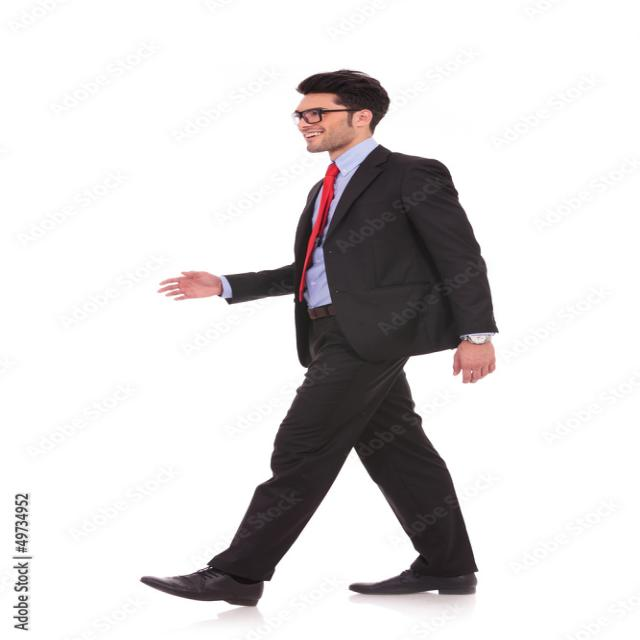Person: (143, 70, 496, 606)
